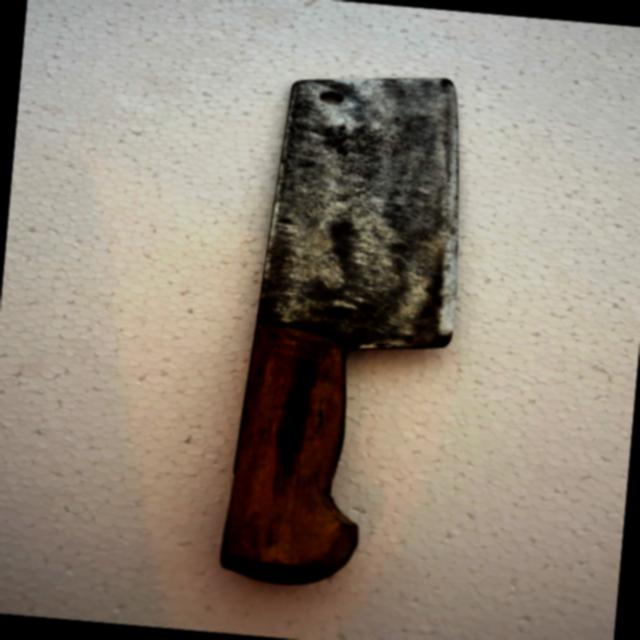cleaver: (212, 63, 462, 584)
